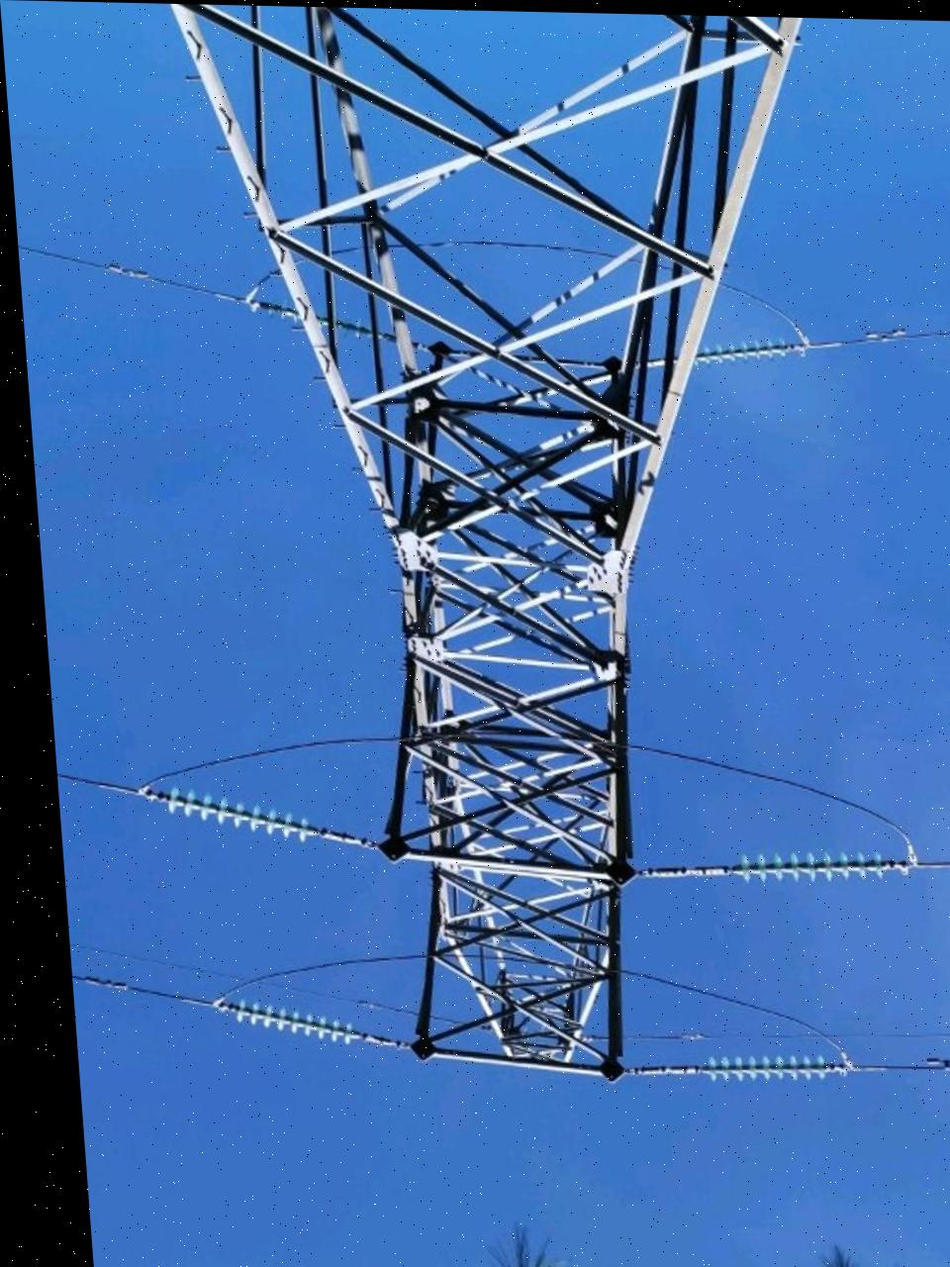tower: (130, 5, 854, 1113)
